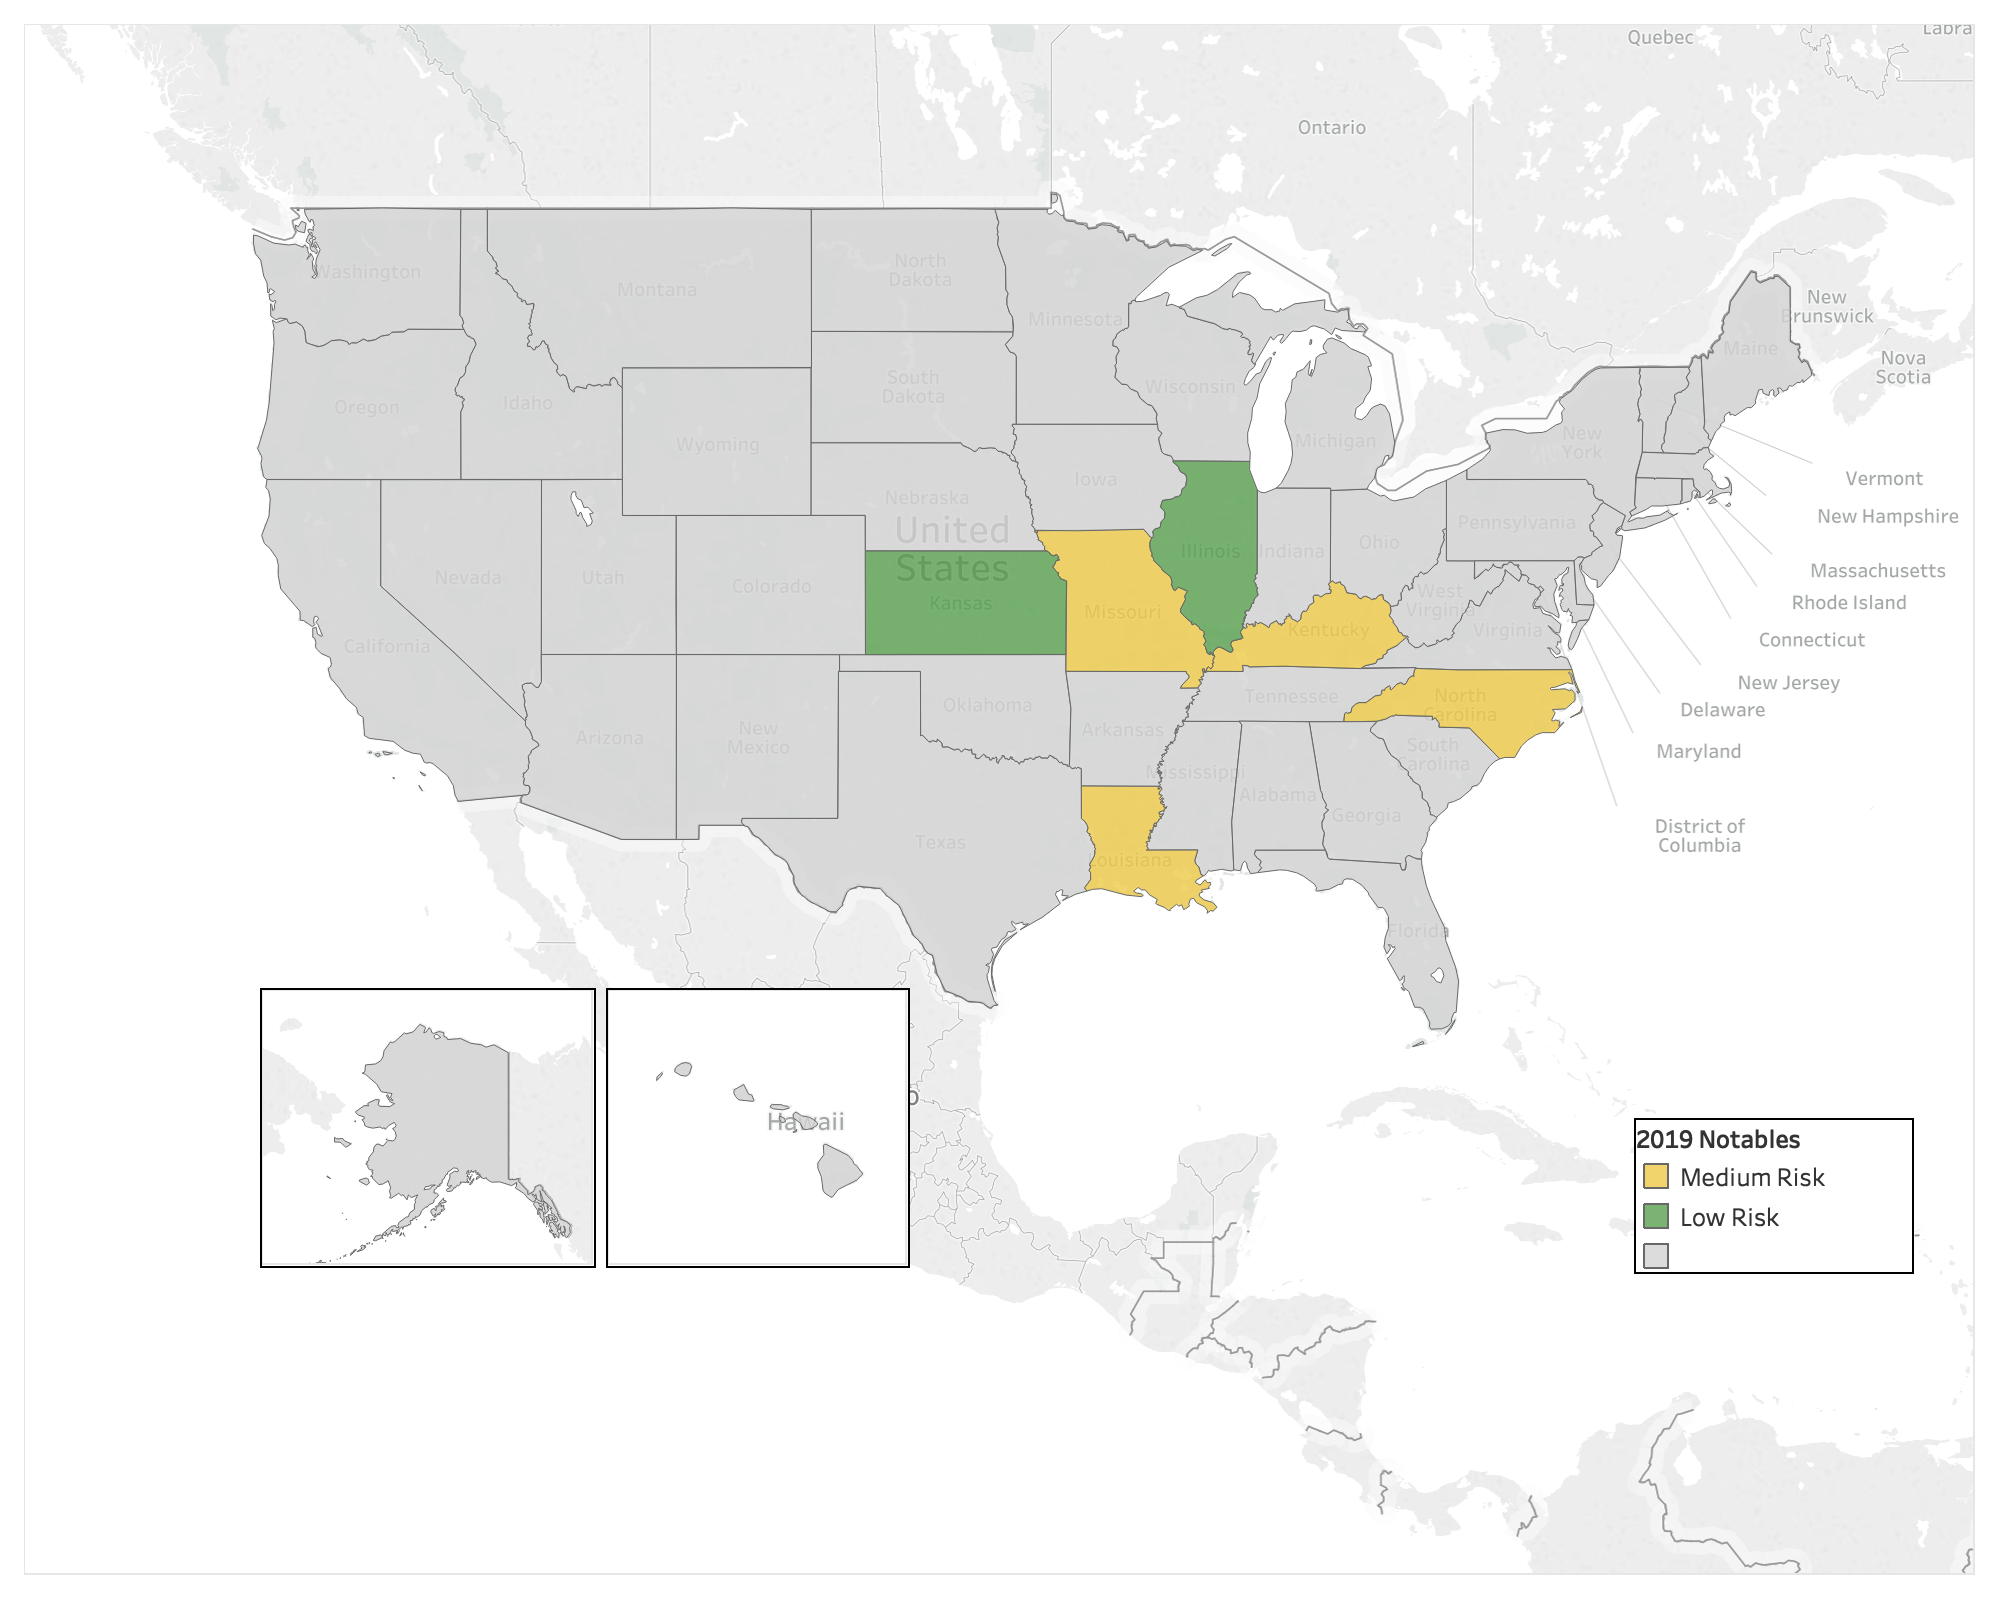

The dashboard page shown, as its layout file describes it:
{"tool":"tableau","page":{"name":"Combined Dashboard","canvas":[1000,800],"ordinal":0},"visuals":[{"type":"worksheet","title":"Continental US","mark":"Multipolygon","box":[8,8,984,784]},{"type":"worksheet","title":"Alaska","mark":"Multipolygon","box":[130,494,168,140]},{"type":"worksheet","title":"Hawaii","mark":"Multipolygon","box":[303,494,152,140]},{"type":"legend","title":"Continental US","param":"[federated.0m2l6ym0lxfjpv17yf2tp1avjzvb].[none:Calculation_3261732089231159298:n","box":[817,559,140,78]}]}

Visuals, with their boxes in screenshot pixels (x1, y1, x2, y2), scaled from the page's 1000x800 canvas onto the 2000x1600 screenshot:
"Continental US" worksheet (Multipolygon marks): (x1=16, y1=16, x2=1984, y2=1584)
"Alaska" worksheet (Multipolygon marks): (x1=260, y1=988, x2=596, y2=1268)
"Hawaii" worksheet (Multipolygon marks): (x1=606, y1=988, x2=910, y2=1268)
"Continental US" legend: (x1=1634, y1=1118, x2=1914, y2=1274)
